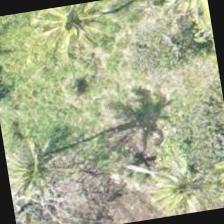Kelapa_Sawit: (20, 0, 120, 76), (132, 142, 223, 220)
